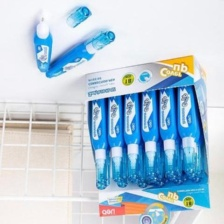book: (82, 53, 212, 224)
correction_fluid: (41, 28, 116, 80), (139, 64, 161, 180), (176, 61, 198, 174), (157, 63, 178, 177), (122, 66, 142, 181), (89, 75, 109, 185), (107, 71, 125, 183), (30, 15, 55, 73)
